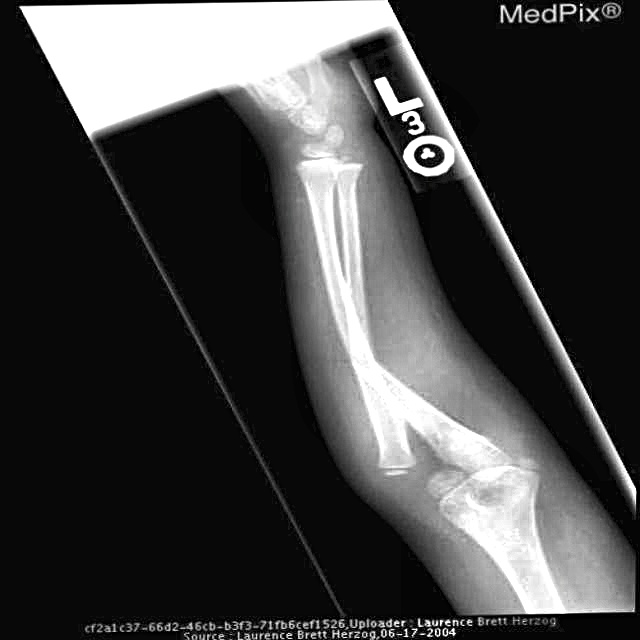Spiral: (341, 299, 398, 409)
